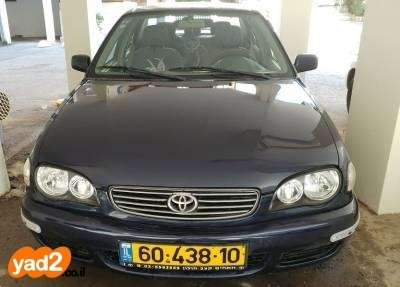licence: (114, 238, 247, 273)
